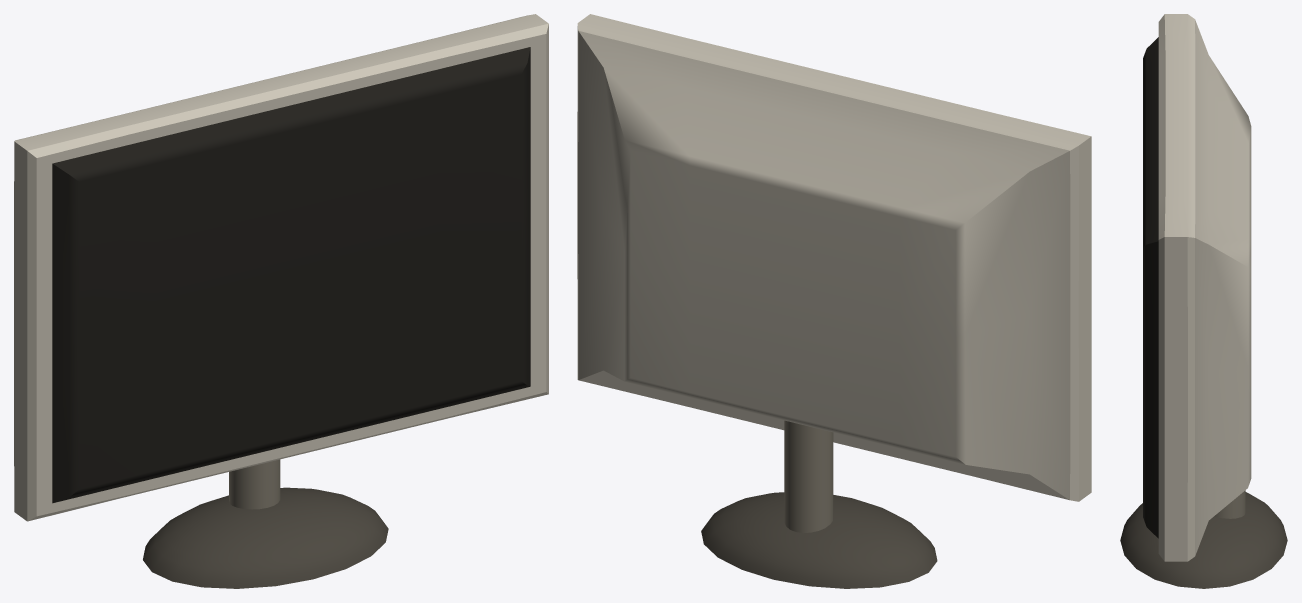
File: Computer.fbx
3 renders of one model, left to right at view 1: azimuth 30°, elevation 25°; view 2: azimuth 150°, elevation 25°; view 3: azimuth 270°, elevation 25°, orthographic. The views are drawn at different scales.
Visible parts, largest first — view 1: pCube3; view 2: pCube3; view 3: pCube3.
Boxes of the visible parts, left/top/right/bottom form: pCube3: left=14, top=14, right=548, bottom=588; pCube3: left=577, top=14, right=1091, bottom=588; pCube3: left=1120, top=14, right=1287, bottom=588.
Bounding box in the file's own units: 3.04 × 2.64 × 0.9649.
Materials: 1 (1 with a texture image).
